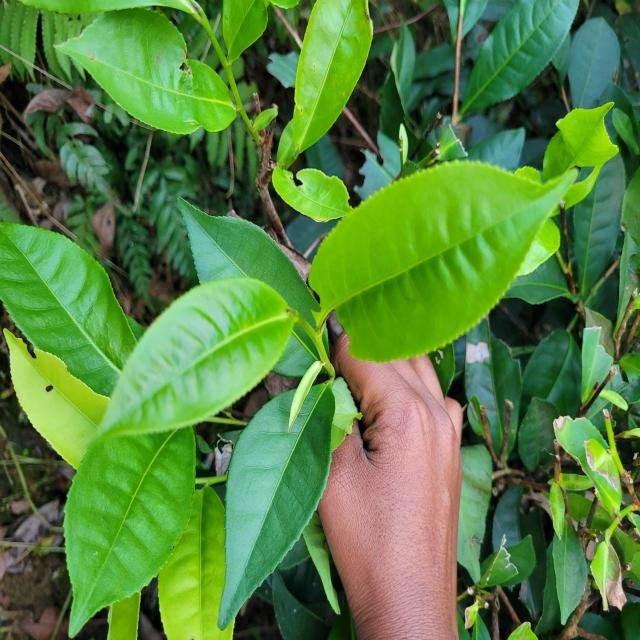Catagory A(1-2 days): (86, 247, 298, 448)
